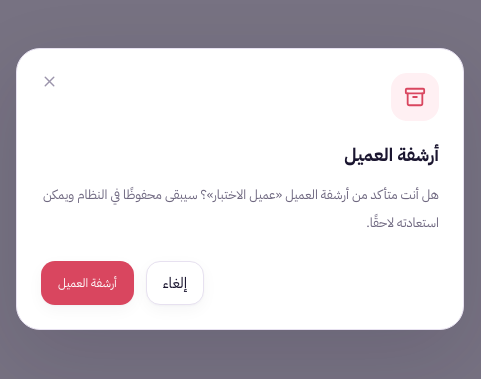
Test case: CustomerArchiveDialog › shows the canonical command failure message
The image size is (481, 379).
Click the button "أرشفة العميل": x=87, y=283 [41,261,134,305]
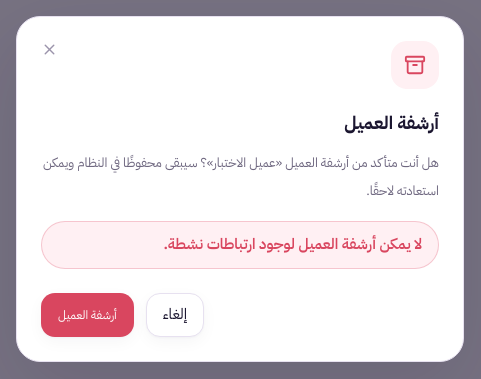
Expected: the text "لا يمكن أرشفة العميل لوجود ارتباطات نشطة." is shown, [41,221,439,269]
